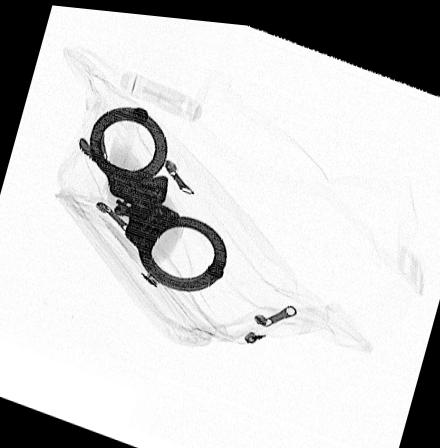HandCuffs: (74, 103, 231, 290)
